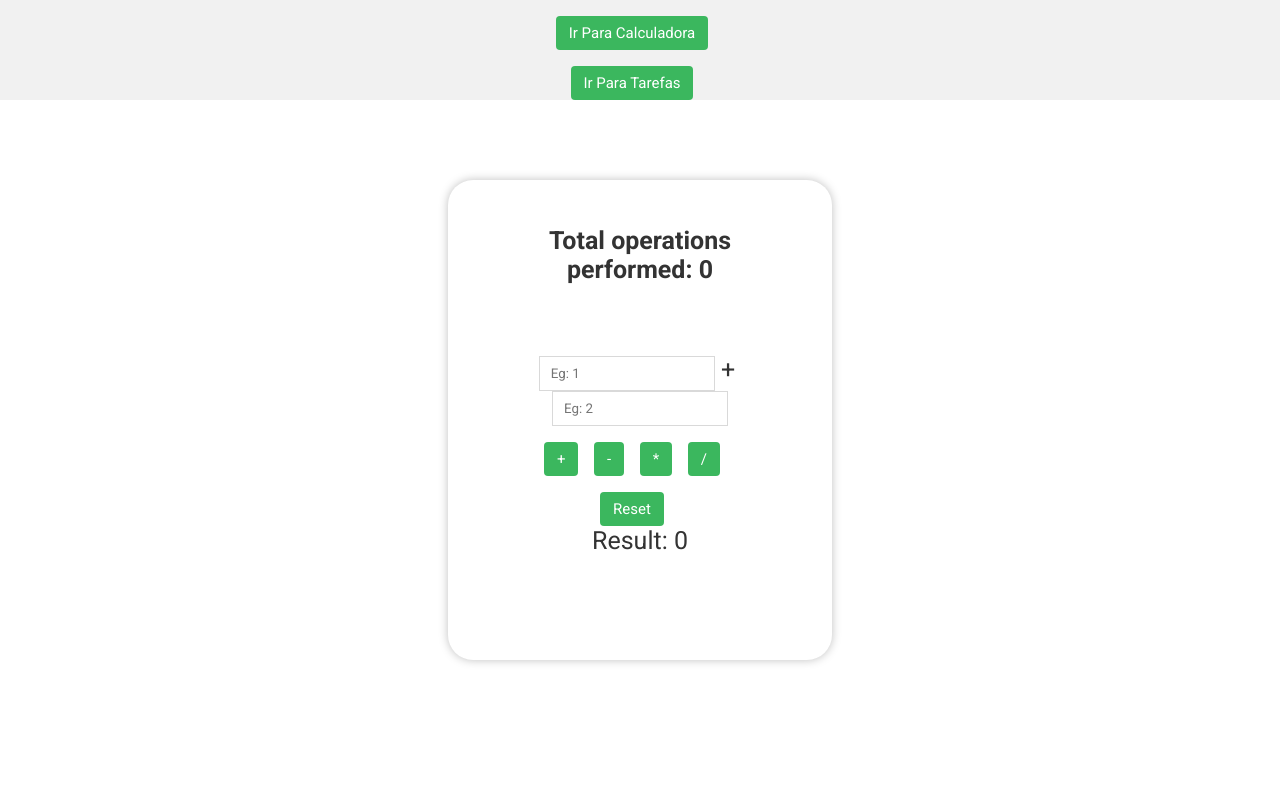
Test: + operation works
Type "10" into the number field with test id "app-input1". click: point(627, 374)
box: [539,356,715,391]
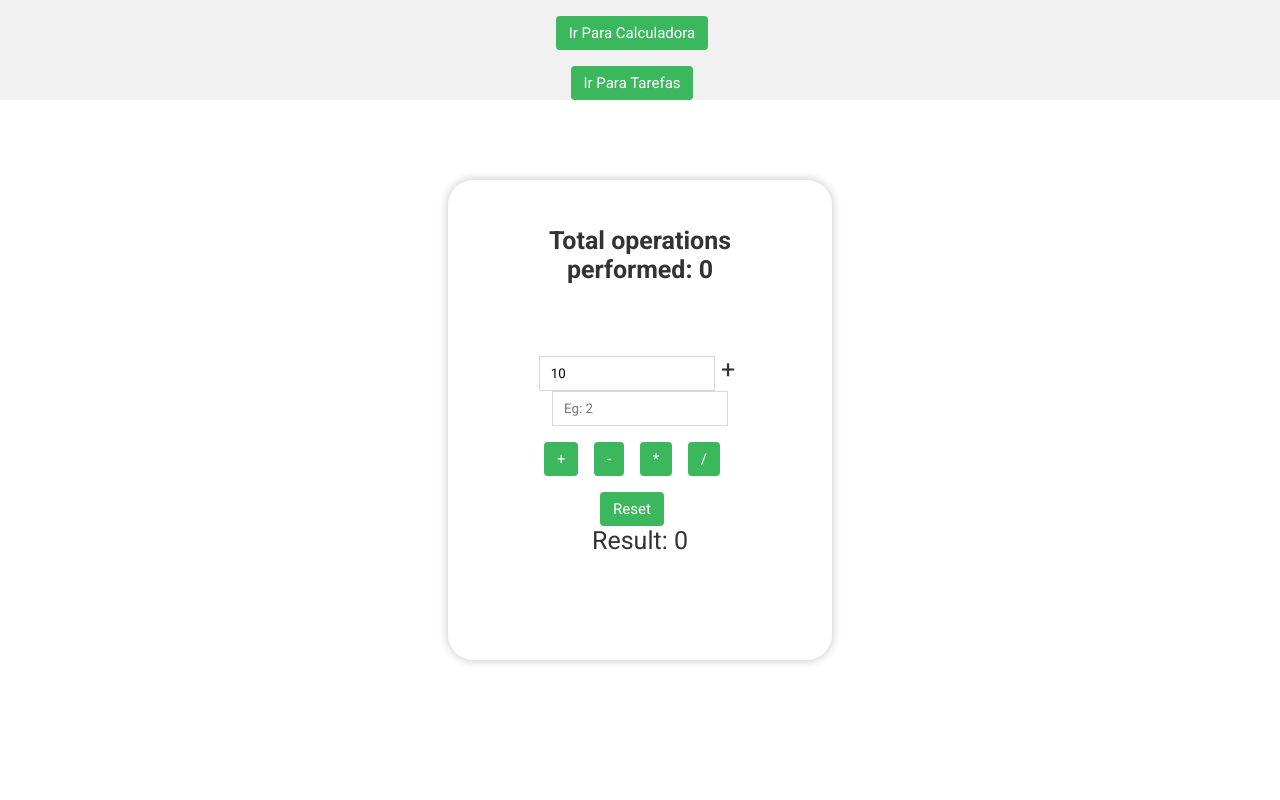
Type "5" into the number field with test id "app-input2". click: point(640, 409)
box: [552,391,728,426]
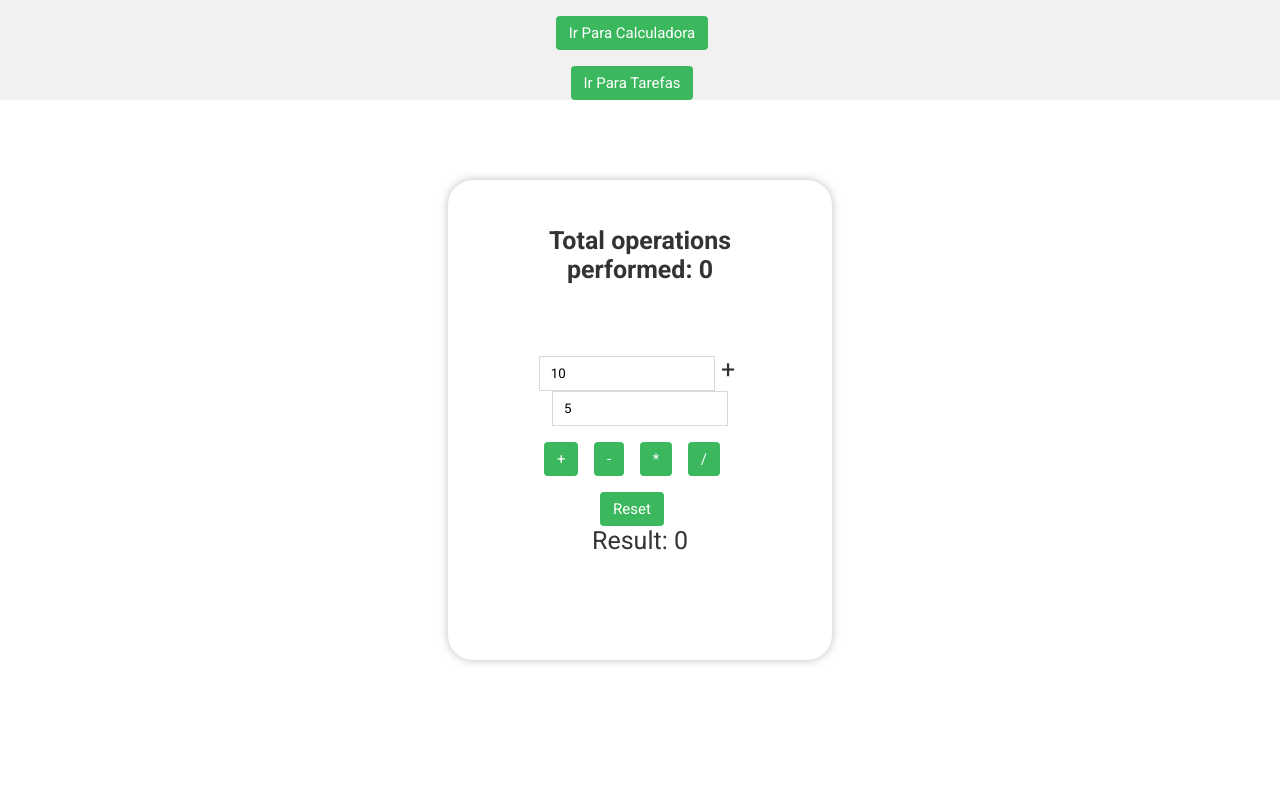
Click the button with test id "addButton". click: point(561, 459)
box: [544,442,578,476]
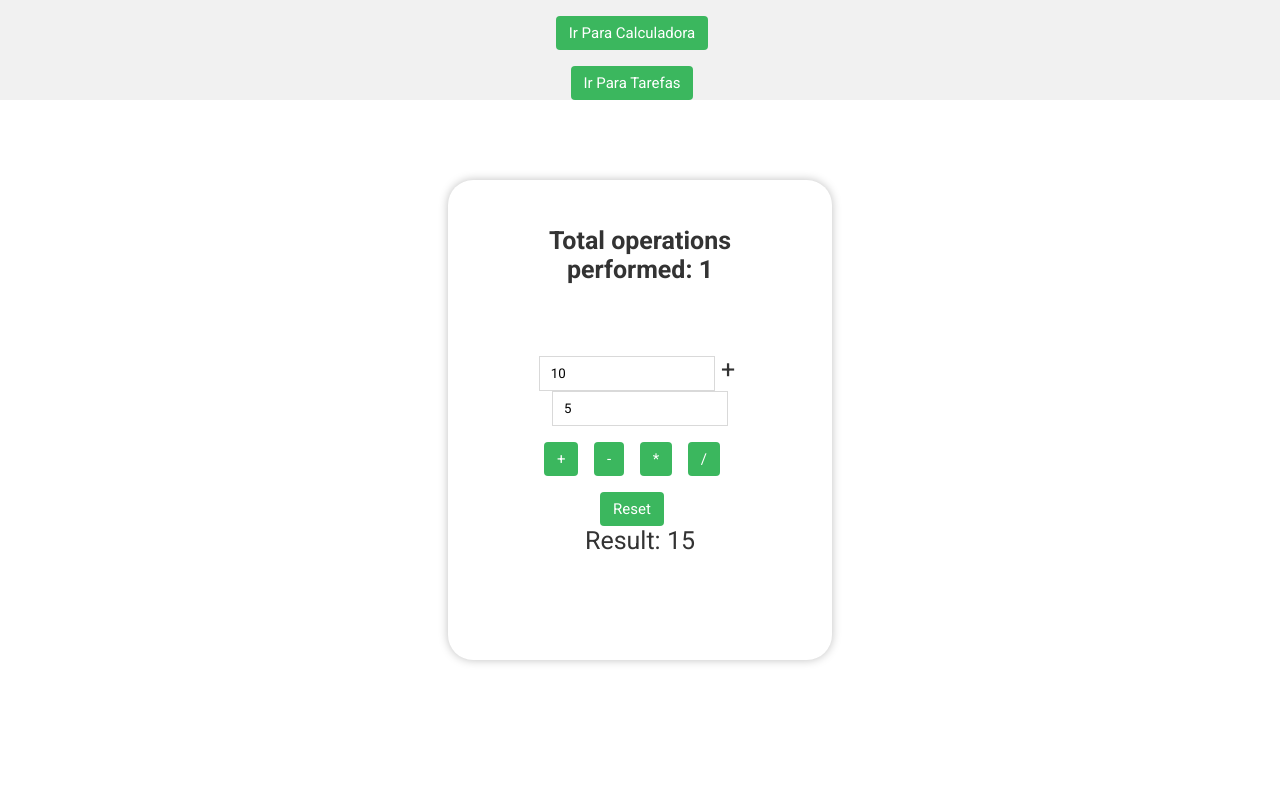
Expected: the label with test id "selected-operator" reads "+", [721,355,735,384]
Expected: the label with test id "result" reads "Result: 15", [585,526,695,555]
